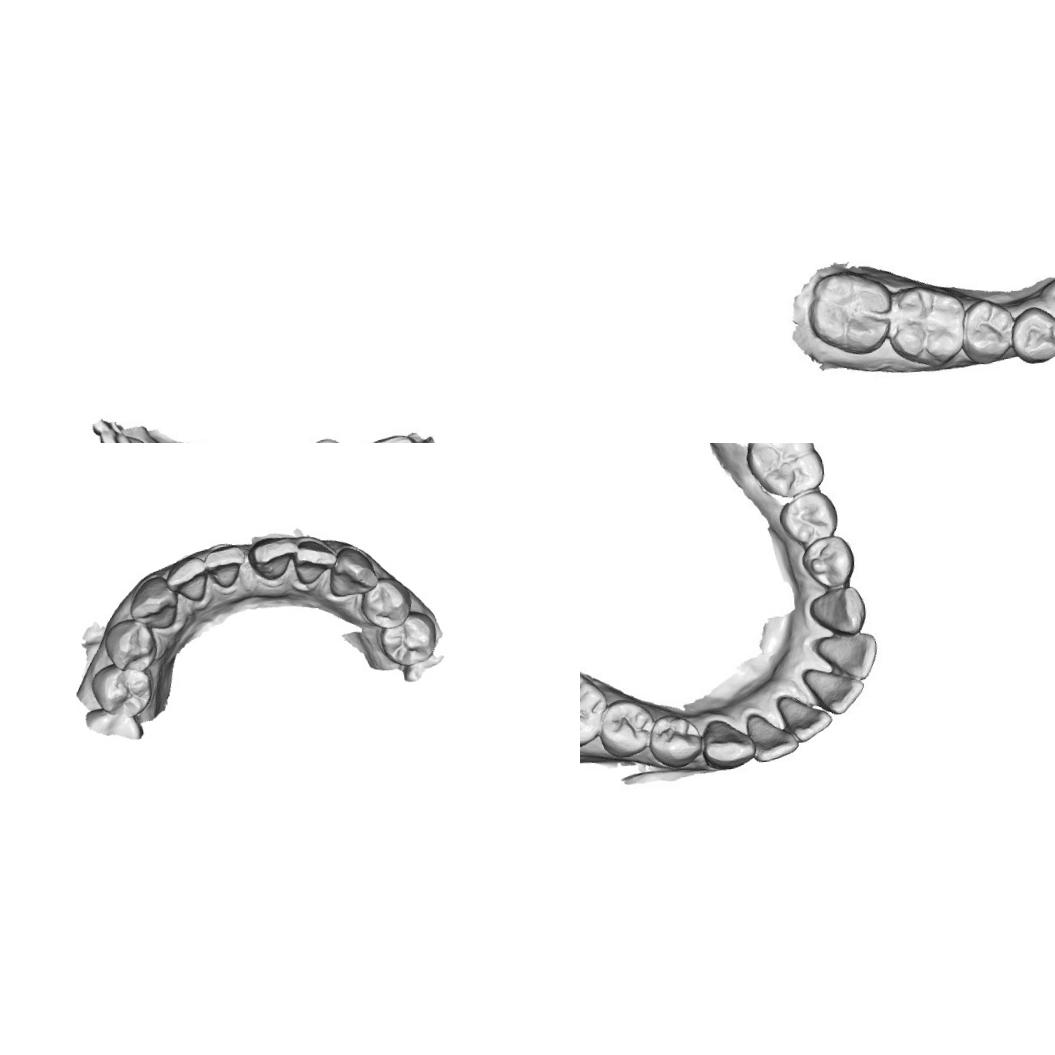canine: (124, 570, 182, 633), (324, 541, 383, 600), (805, 579, 865, 636), (698, 714, 758, 771)
crown: (357, 428, 437, 443)
incisor: (807, 626, 881, 683), (800, 660, 865, 718), (775, 689, 834, 746), (246, 528, 300, 584), (744, 708, 798, 764), (290, 533, 341, 589), (198, 542, 249, 590), (164, 552, 210, 602), (90, 410, 148, 443)
molar: (802, 267, 895, 358), (884, 278, 970, 373), (743, 443, 824, 501), (580, 660, 609, 753)
premolar: (958, 297, 1019, 368), (88, 661, 156, 720), (776, 485, 839, 547), (595, 696, 655, 761), (98, 613, 160, 675), (376, 608, 440, 664), (798, 532, 858, 591), (646, 712, 706, 770), (354, 576, 416, 632), (1006, 301, 1055, 367)
